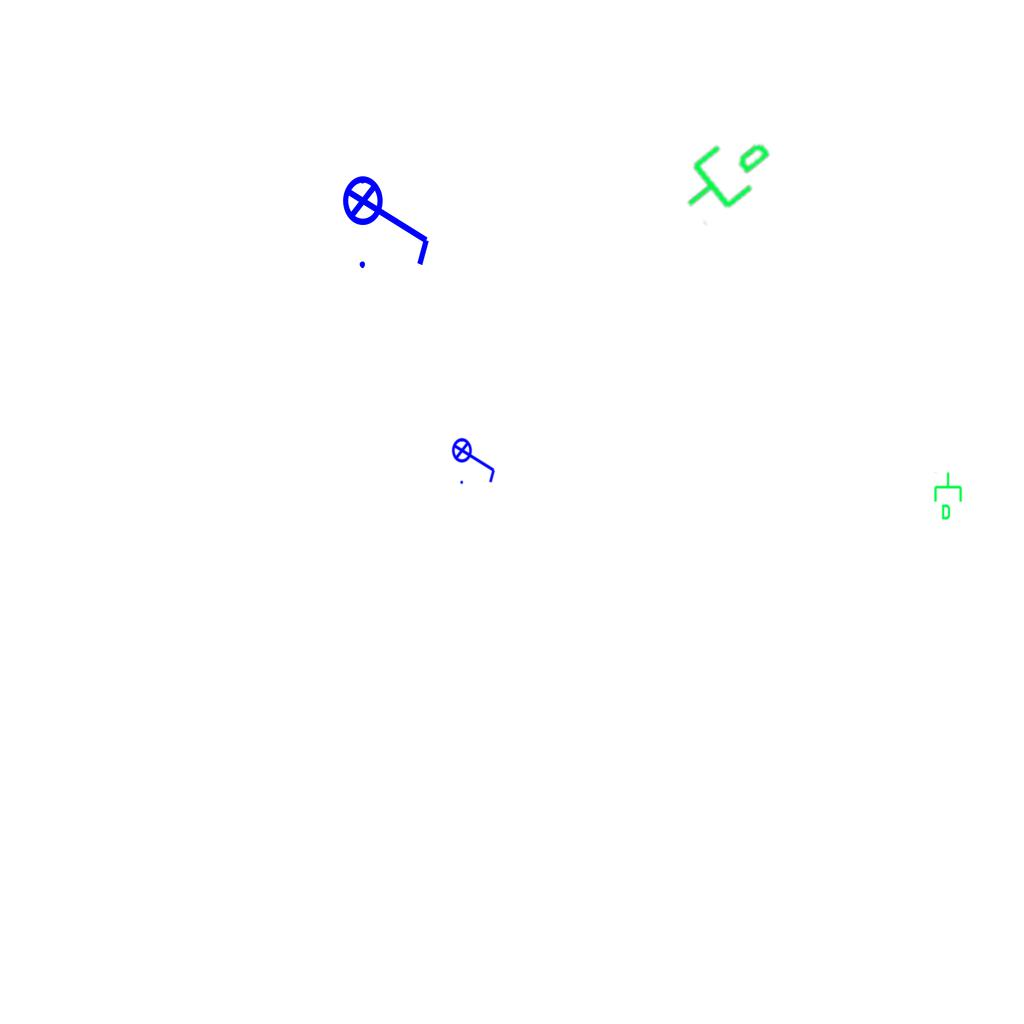Ausschalter_beleuchtet: (341, 162, 437, 274), (451, 431, 499, 487)
Datenanschluss_einfach: (663, 114, 786, 232), (932, 471, 966, 521)
